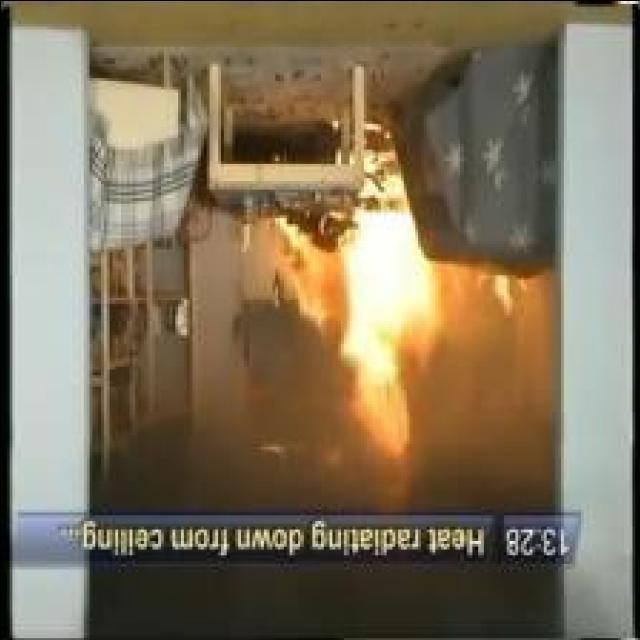Fire: (268, 213, 441, 456), (494, 273, 512, 316)
